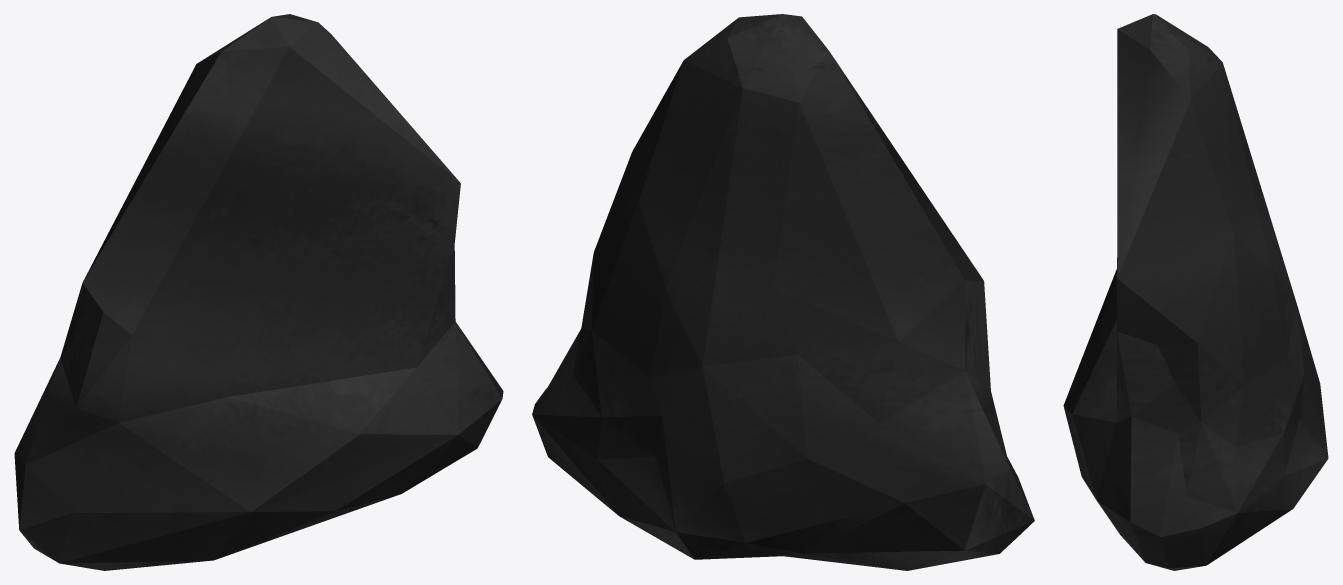
File: Template_Sorrow.fbx
3 views of the same model, side by side, from view 1: azimuth 30°, elevation 25°; view 2: azimuth 150°, elevation 25°; view 3: azimuth 270°, elevation 25° (orthographic). The views are drawn at different scales.
Parts seen in each view (by area): view 1: Template_Sorrow; view 2: Template_Sorrow; view 3: Template_Sorrow.
Boxes of the visible parts, x1,y1,x2,y2 form: Template_Sorrow: (14, 14, 503, 570); Template_Sorrow: (532, 14, 1034, 570); Template_Sorrow: (1063, 14, 1328, 570).
Bounding box in the file's own units: 278 × 276 × 137.
